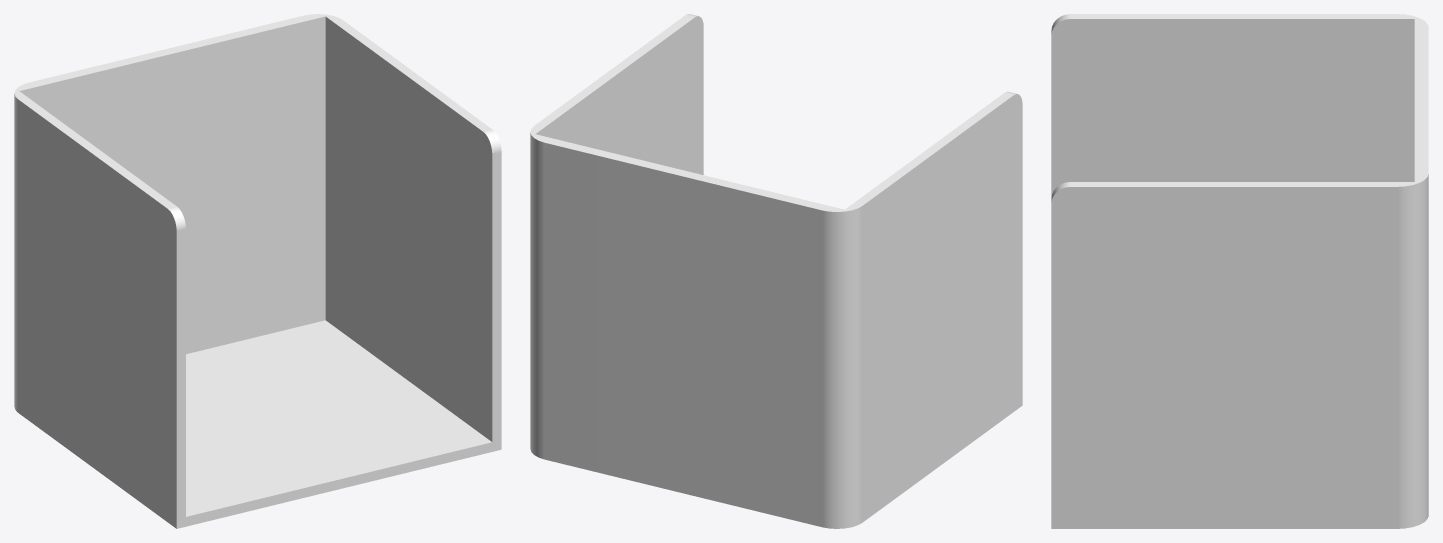
Rendered from emptybox.glb.
3 views of the same model, side by side, from view 1: azimuth 30°, elevation 25°; view 2: azimuth 150°, elevation 25°; view 3: azimuth 270°, elevation 25° (orthographic). The views are drawn at different scales.
Visible parts, largest first — view 1: blank_box.1; view 2: blank_box.1; view 3: blank_box.1.
Part boxes in pixels (bbox=[...]): blank_box.1: bbox=[14, 14, 501, 528]; blank_box.1: bbox=[530, 14, 1022, 528]; blank_box.1: bbox=[1051, 14, 1428, 528].
Bounding box in the file's own units: 0.1065 × 0.0982 × 0.0982.
1 material, 1 textured.
